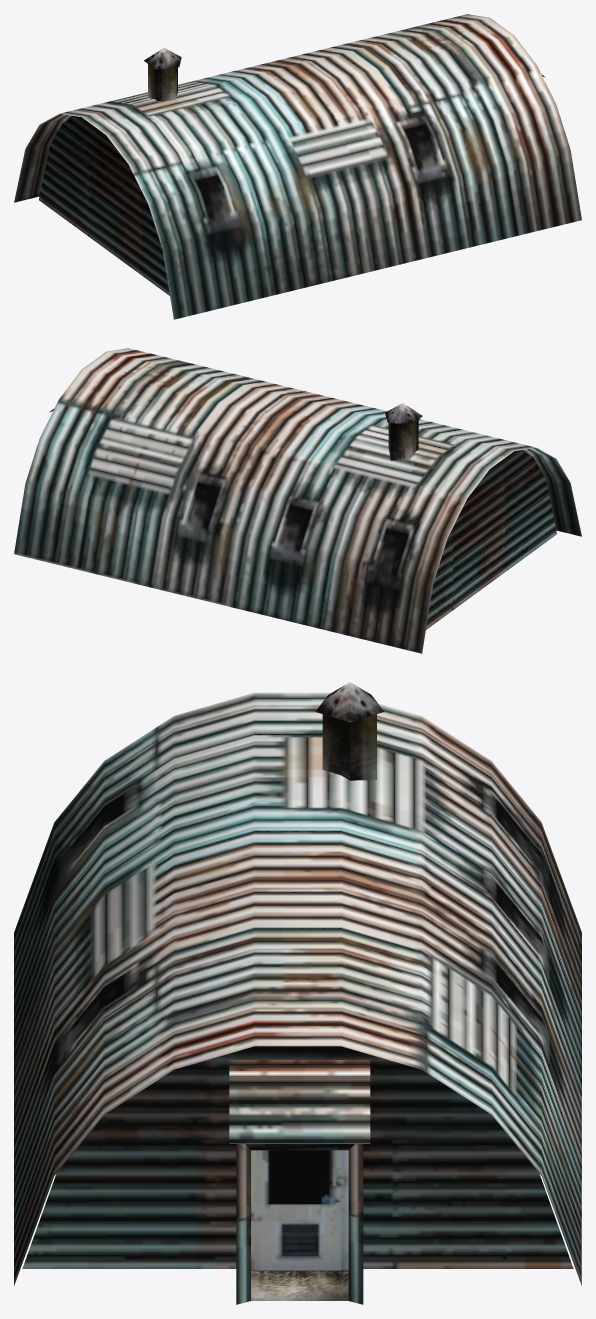
File: Civilian - Civilian Building - Quonset Hut 01 - Night - CBQuonset1_N.glb
The picture shows the model from 3 angles, top to bottom: view 1: azimuth 30°, elevation 25°; view 2: azimuth 150°, elevation 25°; view 3: azimuth 270°, elevation 25°; orthographic projection. The views are drawn at different scales.
Visible parts, largest first — view 1: CBQUONSET1_N; view 2: CBQUONSET1_N; view 3: CBQUONSET1_N.
Part boxes in pixels (<box>): CBQUONSET1_N: <box>14,14,581,319</box>; CBQUONSET1_N: <box>14,348,581,653</box>; CBQUONSET1_N: <box>14,682,581,1304</box>.
Size of the model in its own units: 42.17 by 17.07 by 26.98.
1 material, 1 textured.
